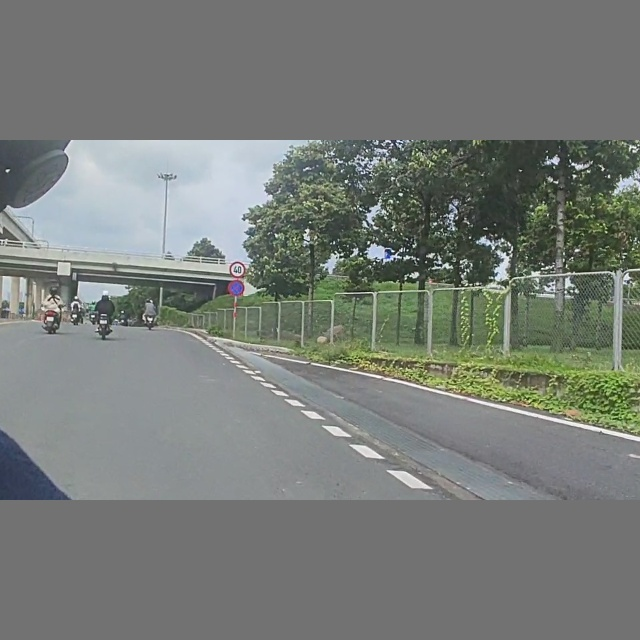P.127*40: (230, 261, 246, 278)
P.130: (228, 279, 245, 297)
